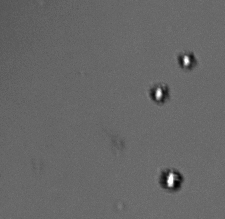Living Cell: (159, 166, 183, 191), (149, 83, 170, 106), (177, 51, 198, 71)
